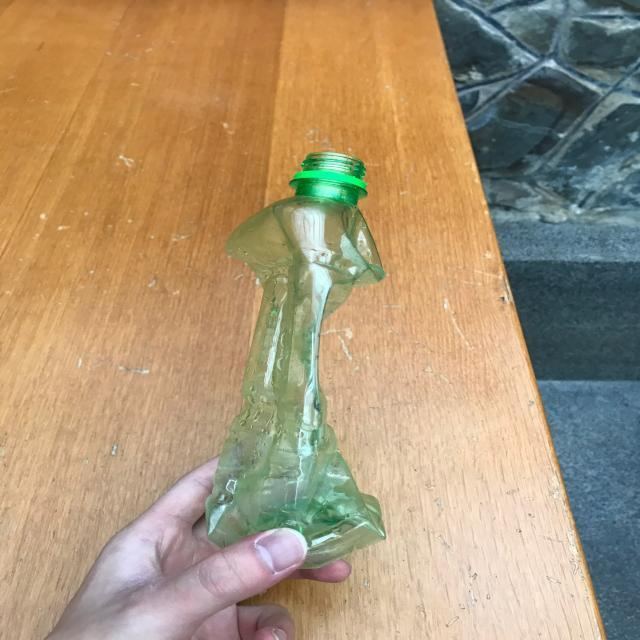plastic_bottle: (204, 152, 386, 569)
